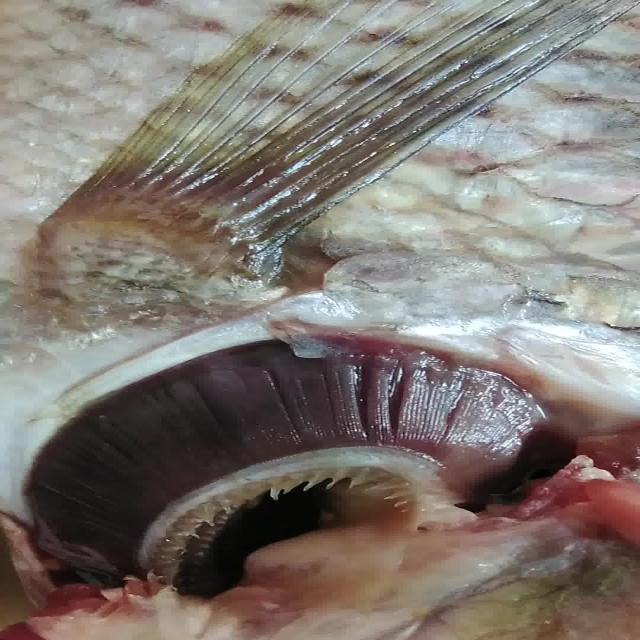Non-Fresh: (39, 330, 524, 558)
